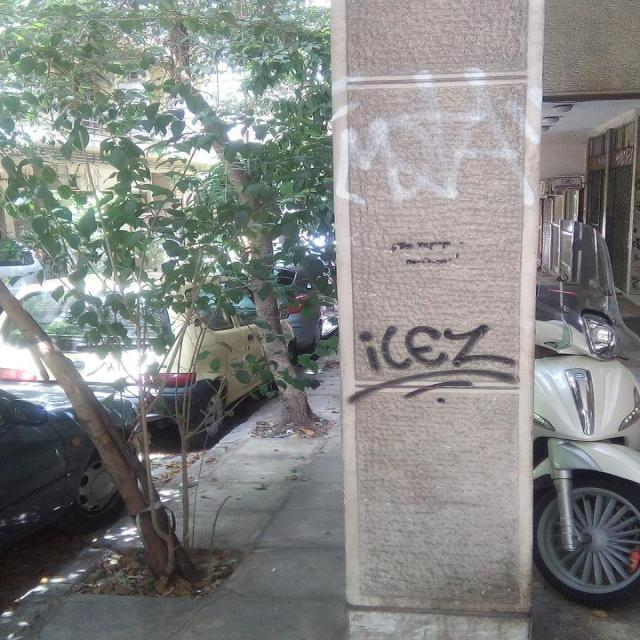nonspitting: (332, 70, 541, 210), (346, 324, 520, 404), (389, 237, 464, 265)
